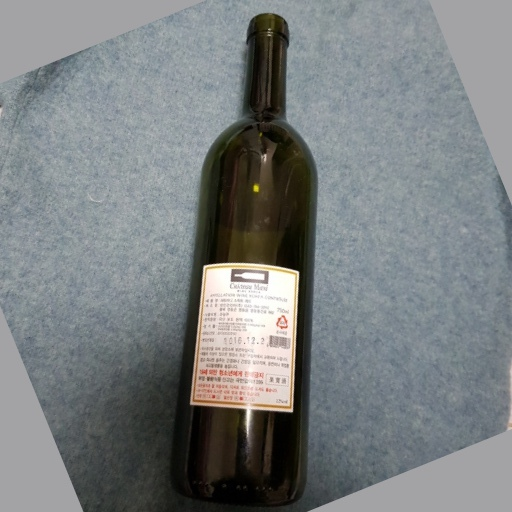Glass_2: (163, 11, 319, 505)
